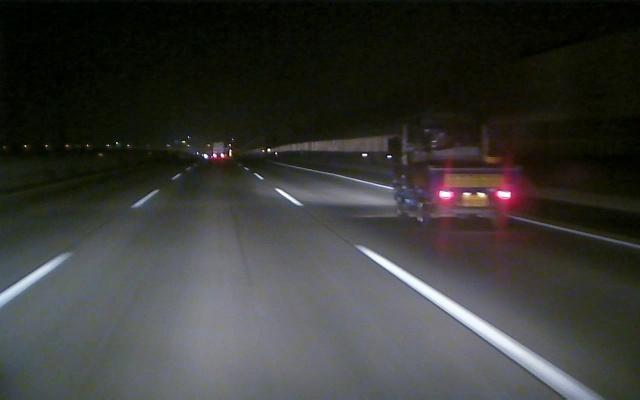lane: (256, 172, 601, 396), (319, 169, 640, 250), (1, 192, 156, 306)
